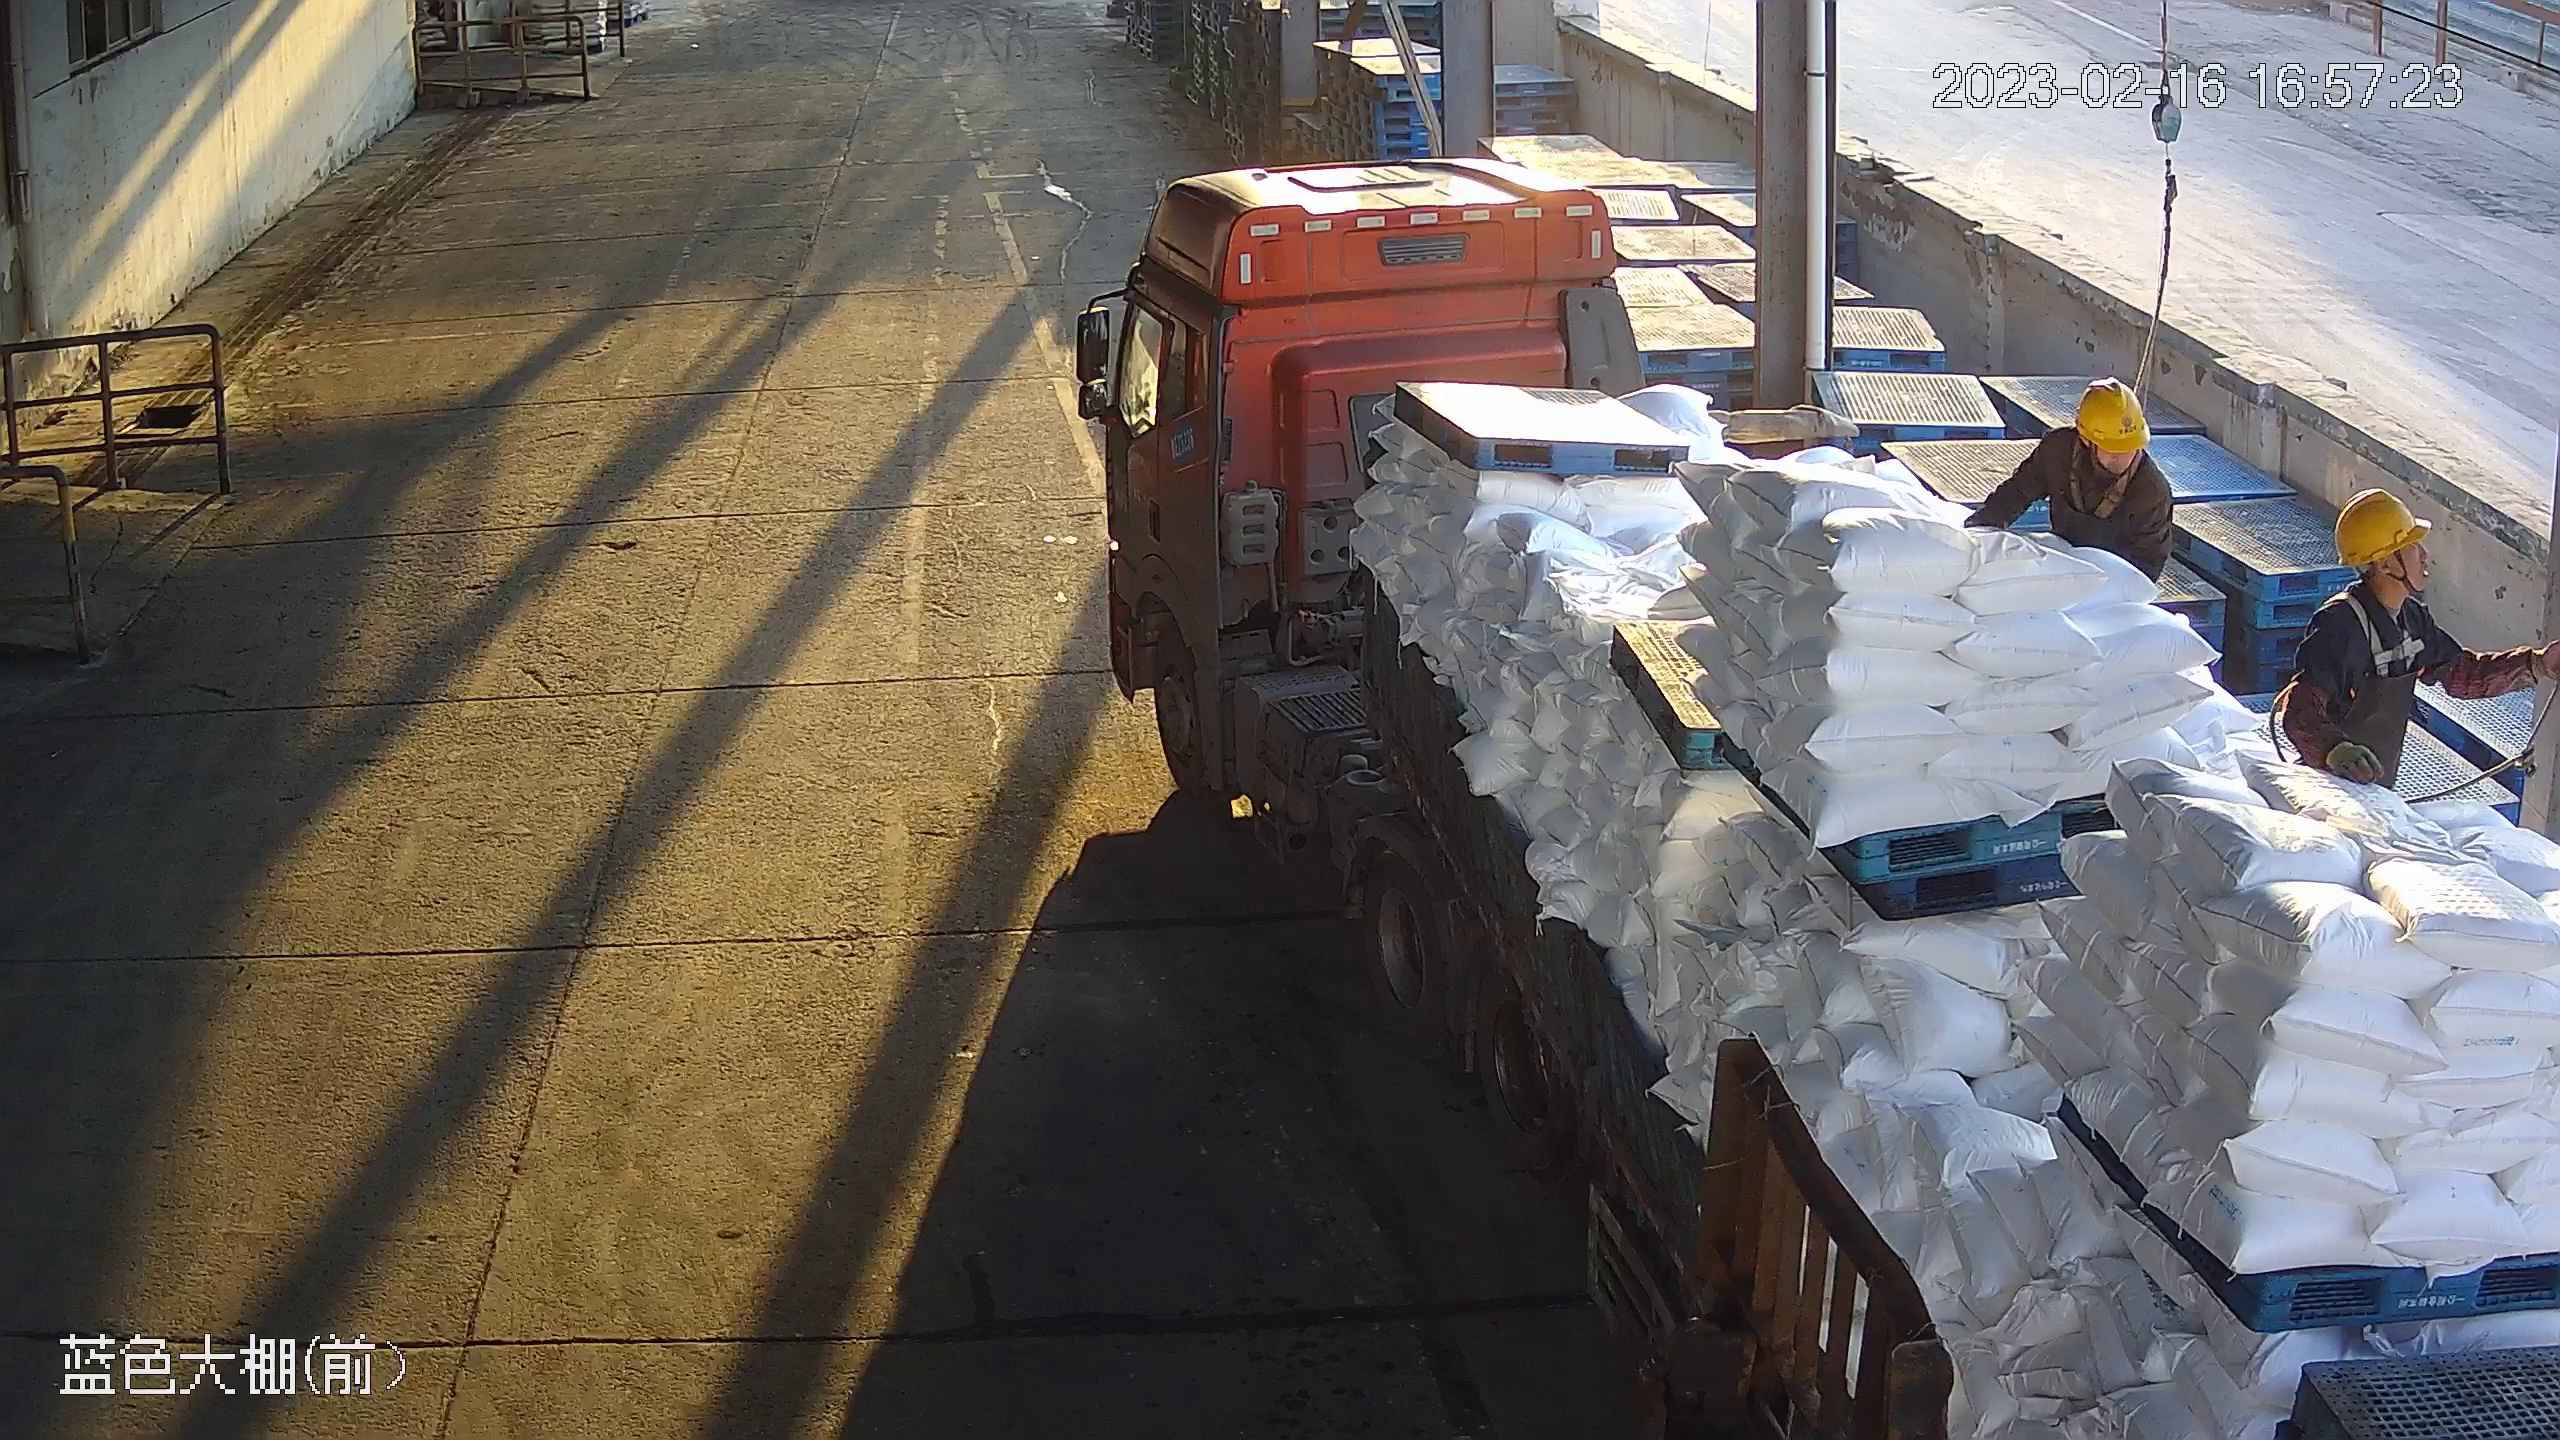belt: (2333, 585, 2436, 677), (2064, 443, 2153, 516)
head: (2311, 484, 2453, 647), (2003, 380, 2173, 510)
helmet: (2064, 379, 2170, 454), (2331, 490, 2433, 564)
truck: (1085, 158, 2560, 1440)
